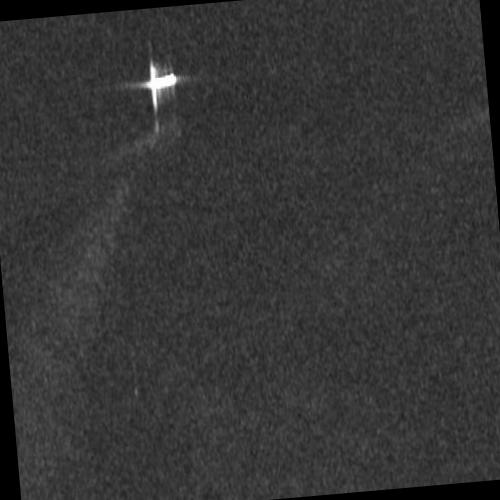ship: (148, 72, 178, 90)
